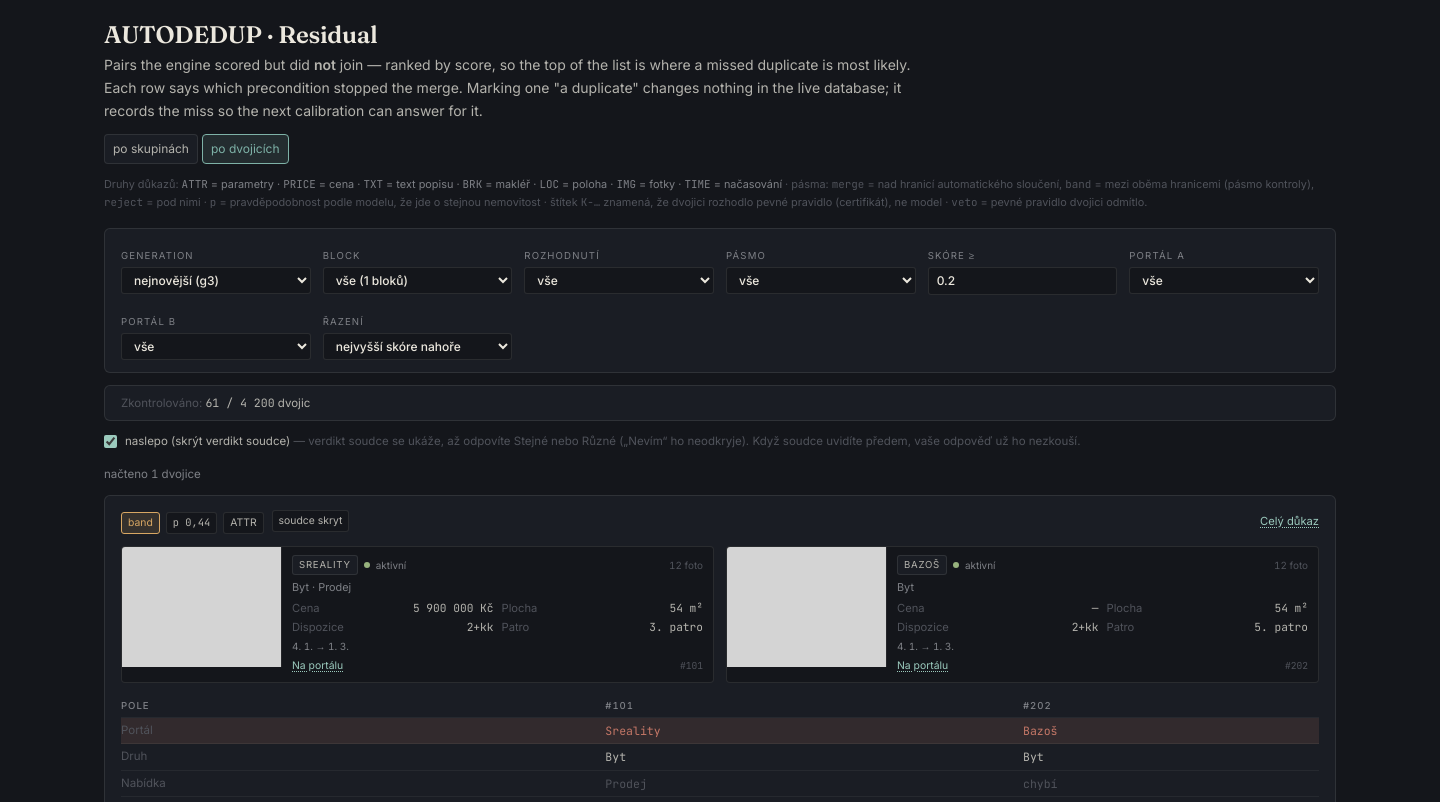
<AutodedupResidual> › counts the seeded sample in the header strip, and only in that order
Expected: the text "Zkontrolováno:" is shown, [121,396,206,410]
Select "náhodný vzorek" in the dropdown labelled "Řazení" at (418, 346), box [323,333,512,360]
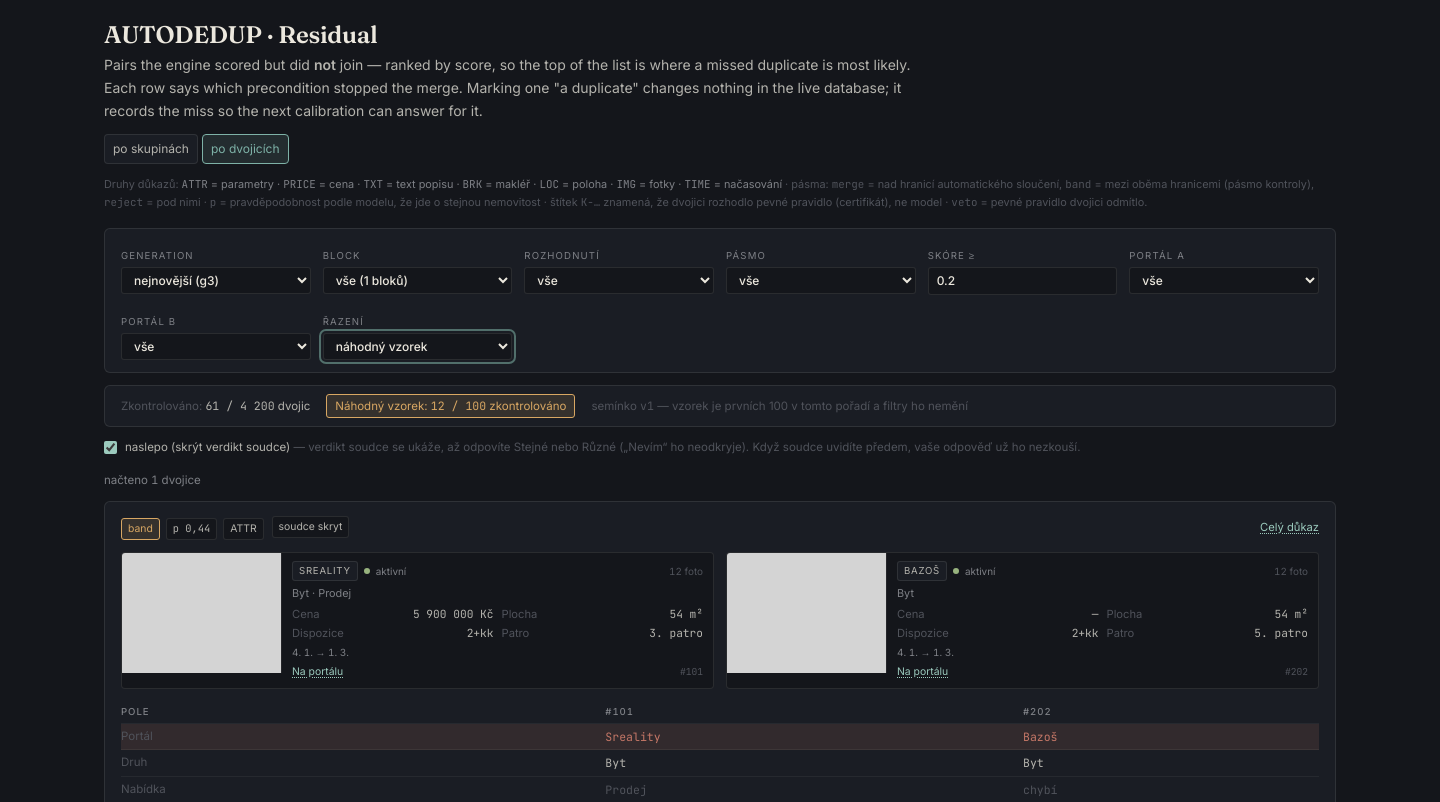
Result: the element with test id "validation-sample" reads "Náhodný vzorek: 12 / 100 zkontrolováno" at [326,394,575,418]
